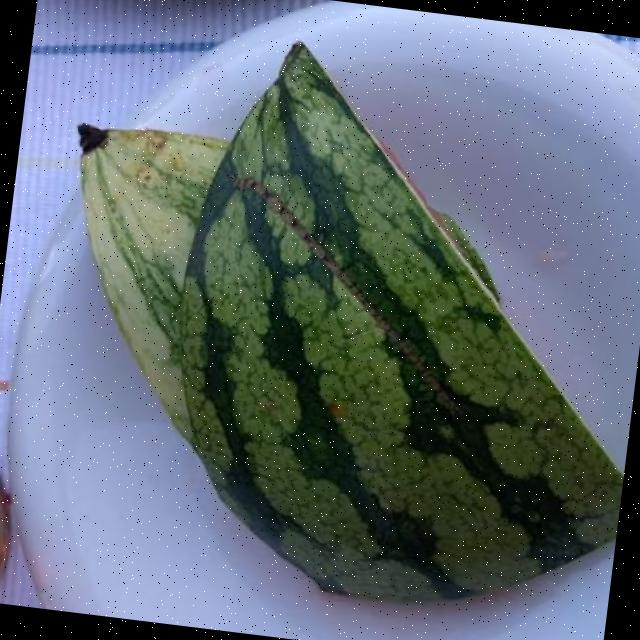watermelon-fresh: (72, 55, 603, 597)
